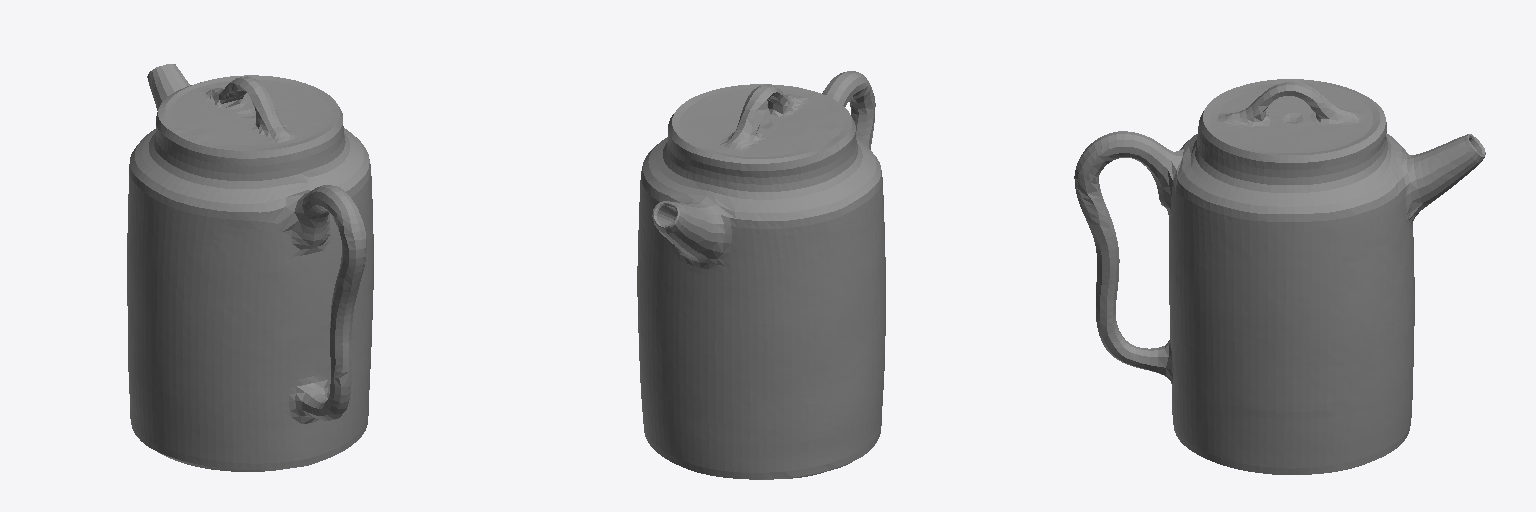
The picture shows the model from 3 angles: view 1: azimuth 30°, elevation 25°; view 2: azimuth 150°, elevation 25°; view 3: azimuth 270°, elevation 25°; orthographic projection.
Parts seen in each view (by area): view 1: SZB_zb_129; view 2: SZB_zb_129; view 3: SZB_zb_129.
Part boxes in pixels (left/top/right/bottom): SZB_zb_129: left=127, top=64, right=373, bottom=471; SZB_zb_129: left=637, top=71, right=885, bottom=479; SZB_zb_129: left=1074, top=79, right=1485, bottom=474.
Size of the model in its own units: 112 by 172 by 186.